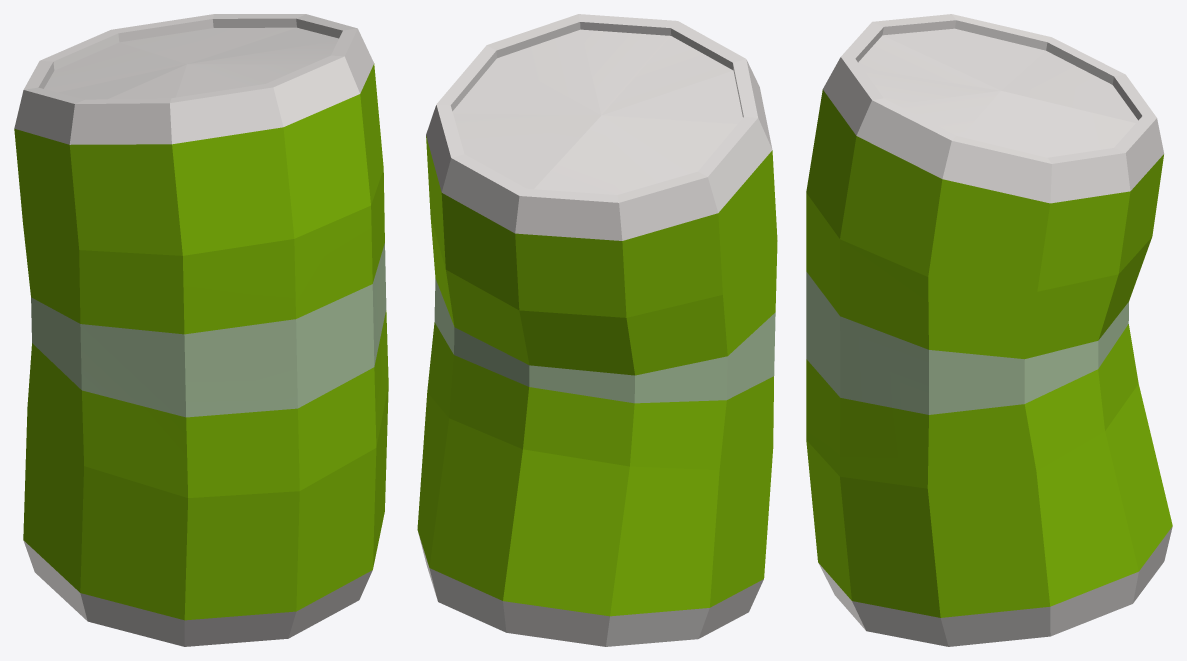
File: lattina_2.fbx
3 views of the same model, side by side, from view 1: azimuth 30°, elevation 25°; view 2: azimuth 150°, elevation 25°; view 3: azimuth 270°, elevation 25° (orthographic). The views are drawn at different scales.
Visible parts, largest first — view 1: Cannette_01; view 2: Cannette_01; view 3: Cannette_01.
Boxes of the visible parts, box(x1,y1,x2,y2) form: Cannette_01: box(14, 14, 388, 646); Cannette_01: box(417, 14, 777, 646); Cannette_01: box(806, 14, 1172, 646).
Size of the model in its own units: 162 by 272 by 170.
